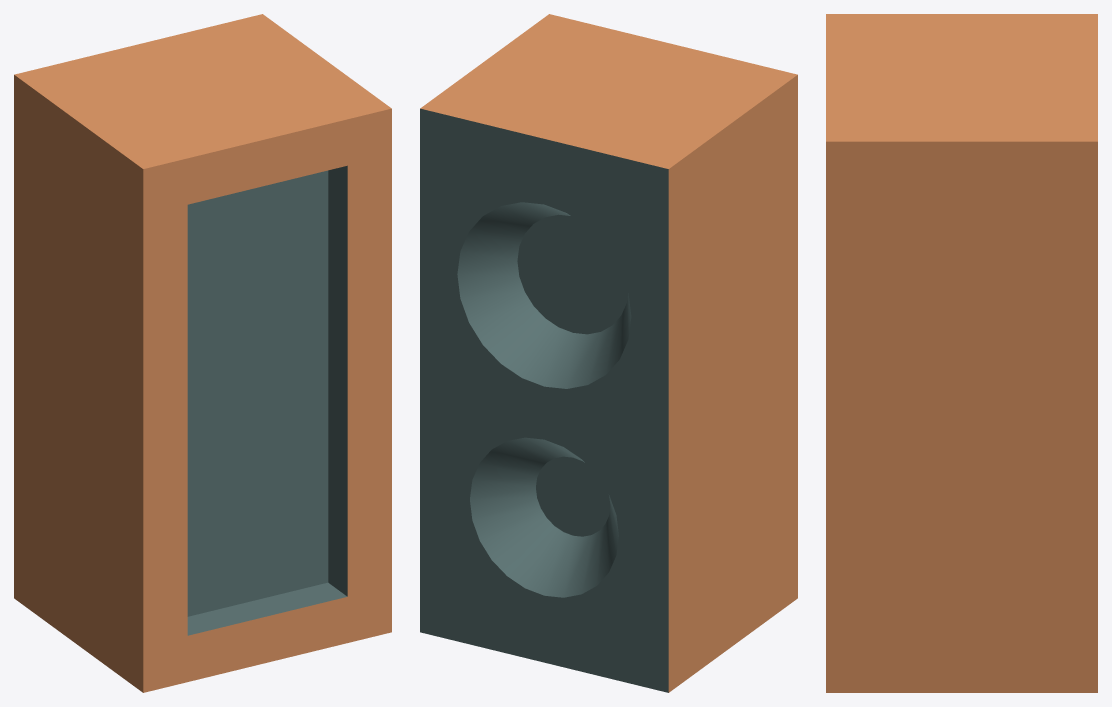
Rendered from speakerSmall.obj.
3 views of the same model, side by side, from view 1: azimuth 30°, elevation 25°; view 2: azimuth 150°, elevation 25°; view 3: azimuth 270°, elevation 25° (orthographic). The views are drawn at different scales.
Parts seen in each view (by area): view 1: speakerSmall; view 2: speakerSmall; view 3: speakerSmall.
Part boxes in pixels (box(x1,y1,x2,y2)): speakerSmall: box(14, 14, 391, 692); speakerSmall: box(420, 14, 797, 692); speakerSmall: box(826, 14, 1097, 692).
Size of the model in its own units: 0.148 by 0.298 by 0.1332.
